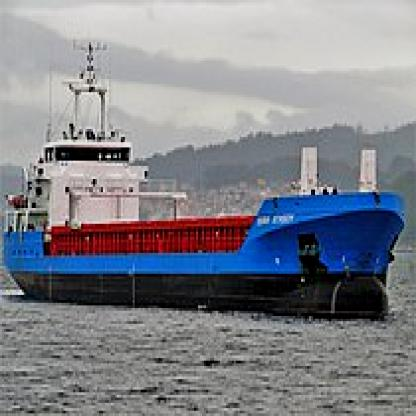Tanker: (16, 68, 402, 310)
